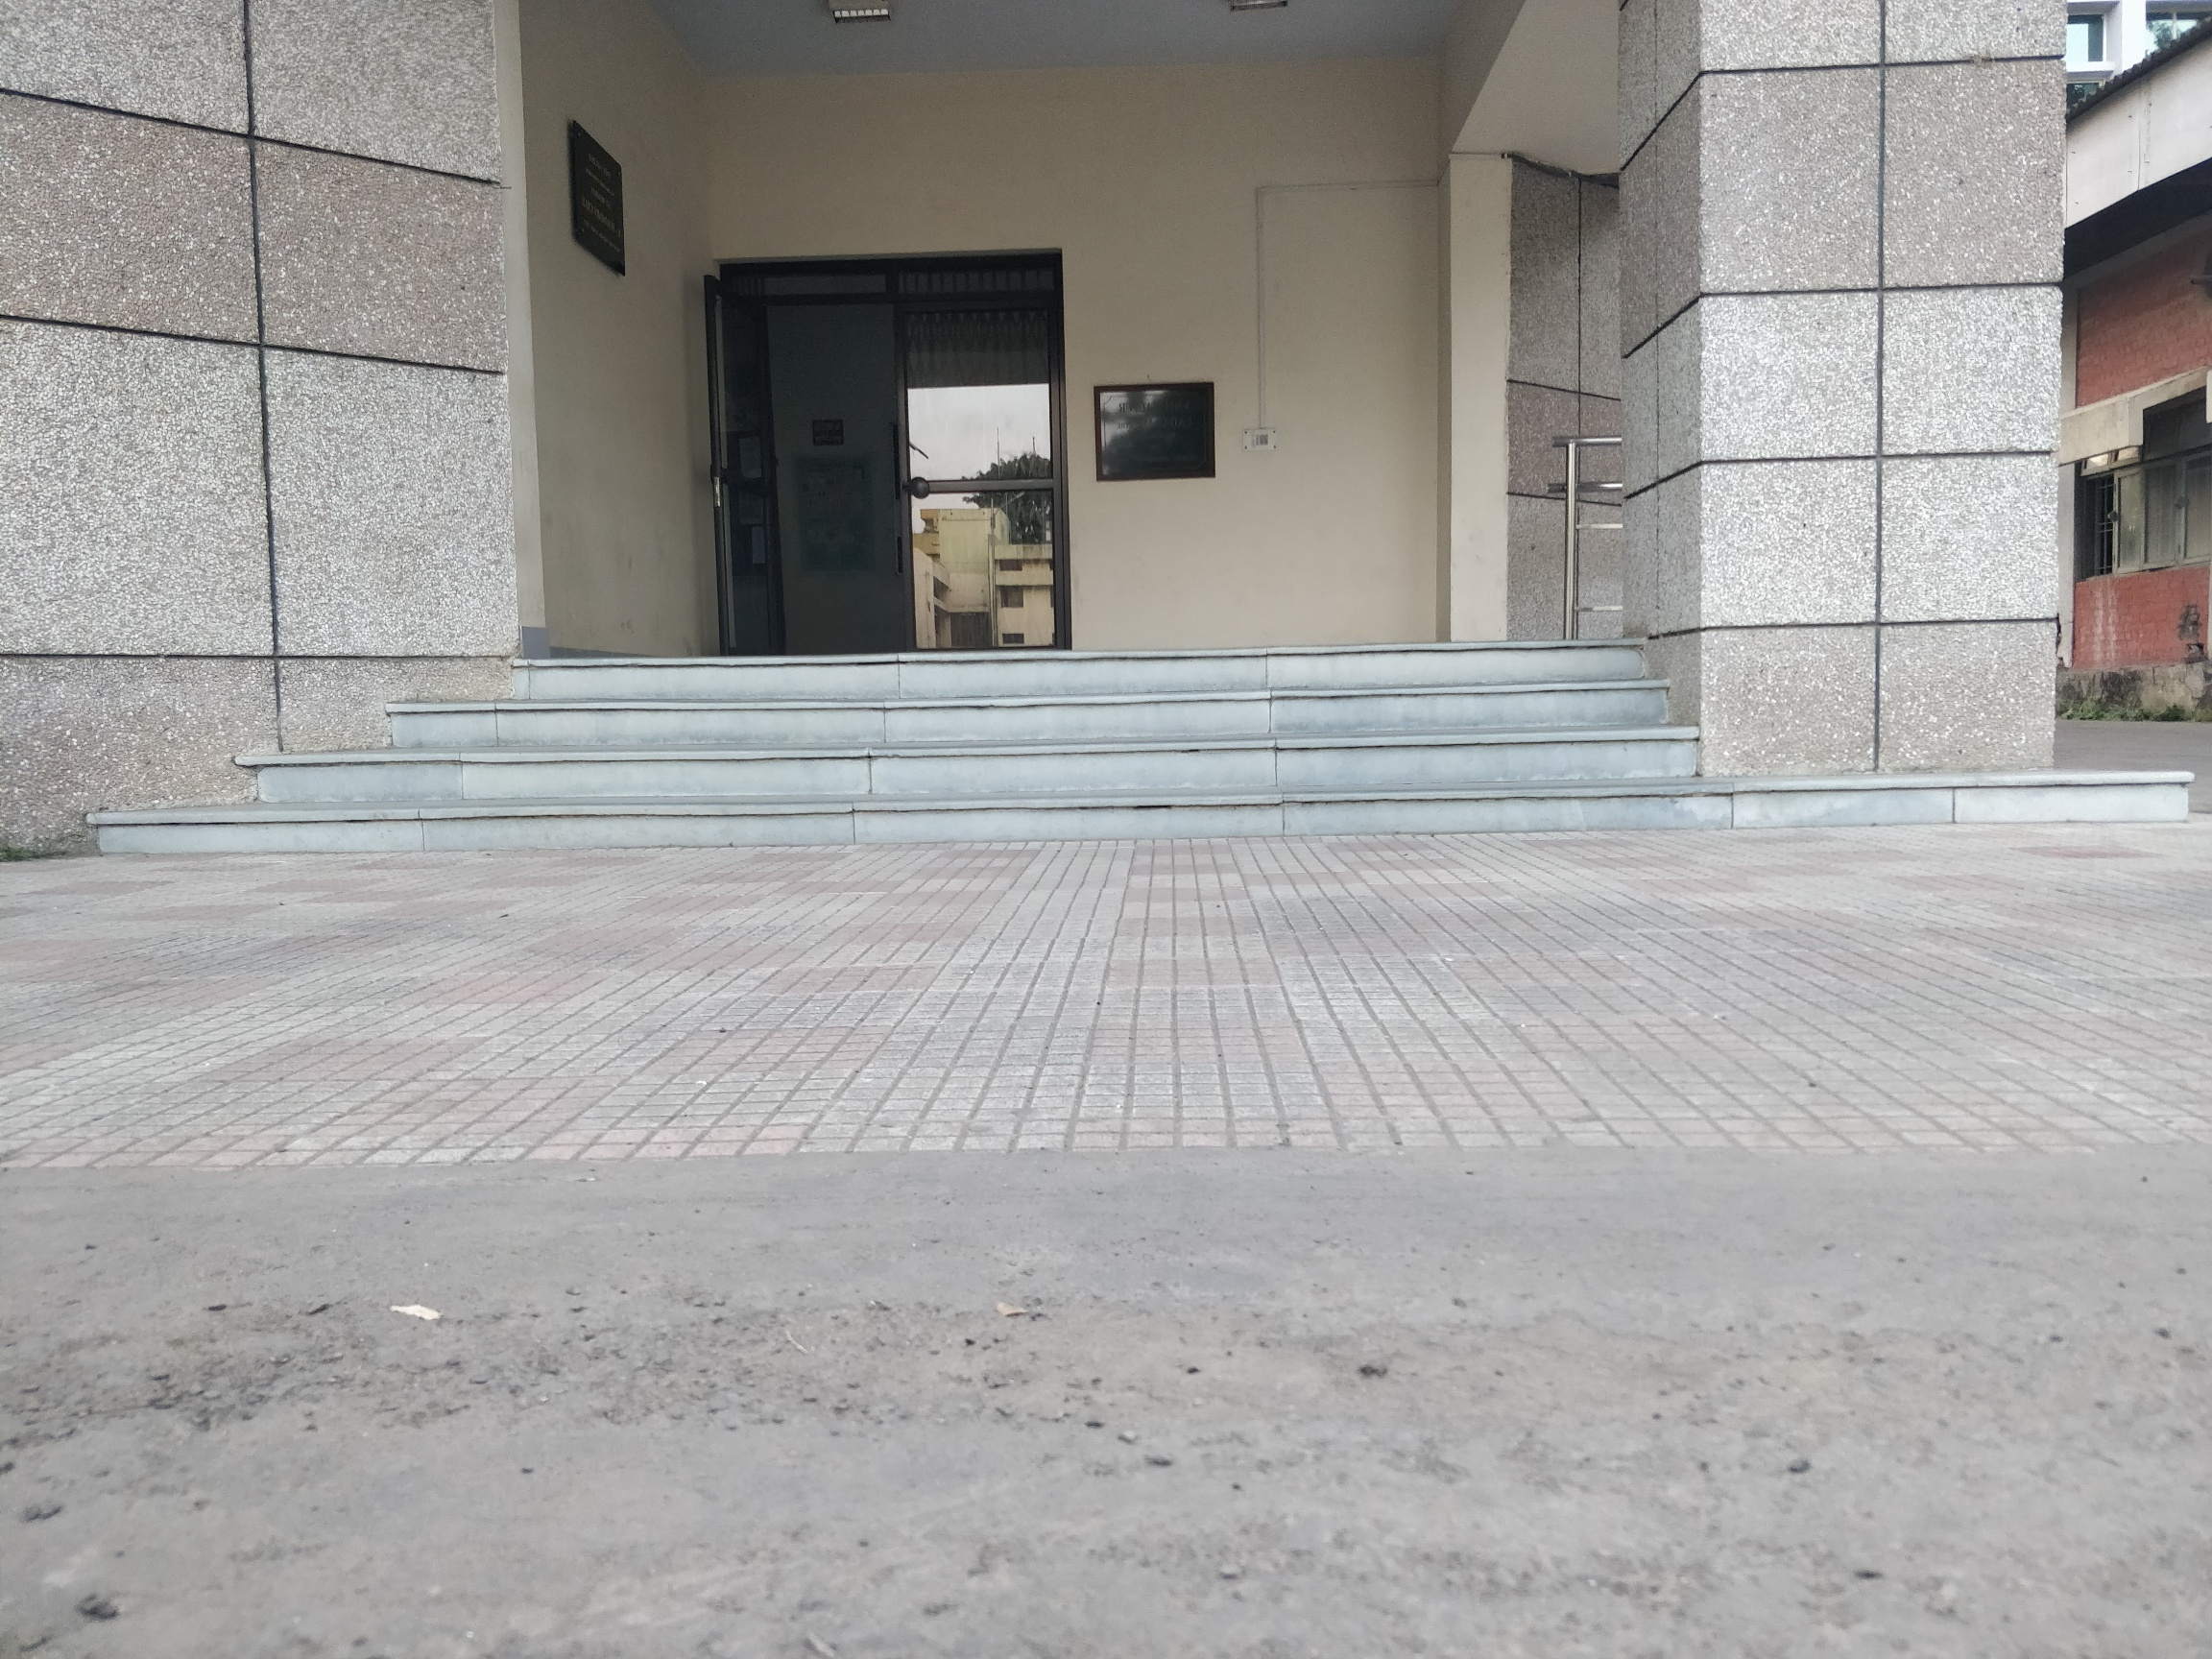stairs_up: (185, 641, 1733, 831)
